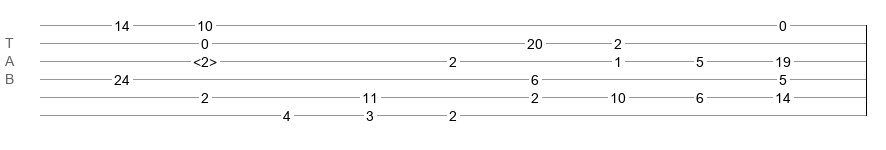0: (201, 36, 209, 46), (779, 18, 787, 28)
1: (614, 54, 622, 64)
10: (197, 18, 213, 28), (610, 90, 626, 100)
11: (362, 90, 378, 100)
14: (114, 18, 130, 28), (775, 90, 791, 100)
19: (775, 54, 791, 64)
2: (201, 90, 209, 100), (449, 54, 457, 64), (449, 108, 457, 118), (531, 90, 539, 100), (614, 36, 622, 46)
20: (527, 36, 543, 46)
24: (114, 72, 130, 82)
3: (366, 108, 374, 118)
4: (283, 108, 291, 118)
5: (696, 54, 704, 64), (779, 72, 787, 82)
6: (531, 72, 539, 82), (696, 90, 704, 100)
harmonic: (193, 54, 217, 64)
